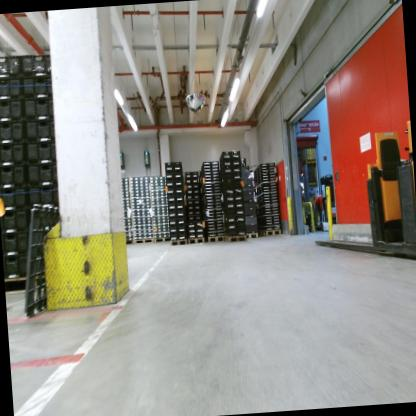forklift: (315, 169, 341, 230)
pallet: (5, 275, 51, 293), (257, 227, 282, 241), (206, 233, 227, 246), (225, 234, 248, 244), (134, 236, 155, 246), (172, 237, 189, 248), (155, 233, 172, 244), (246, 232, 261, 243), (190, 236, 208, 245)
pallet_truck: (307, 128, 416, 268)
small_load_carrier: (29, 185, 64, 218), (17, 50, 54, 78), (27, 159, 61, 188), (0, 143, 31, 173), (0, 164, 32, 192), (22, 73, 57, 98), (0, 190, 31, 218), (22, 117, 54, 144), (22, 91, 51, 119), (4, 253, 37, 277), (0, 117, 28, 145), (0, 211, 31, 236), (2, 233, 35, 255), (0, 95, 26, 122), (24, 142, 59, 162), (0, 52, 23, 81), (0, 76, 24, 98)
